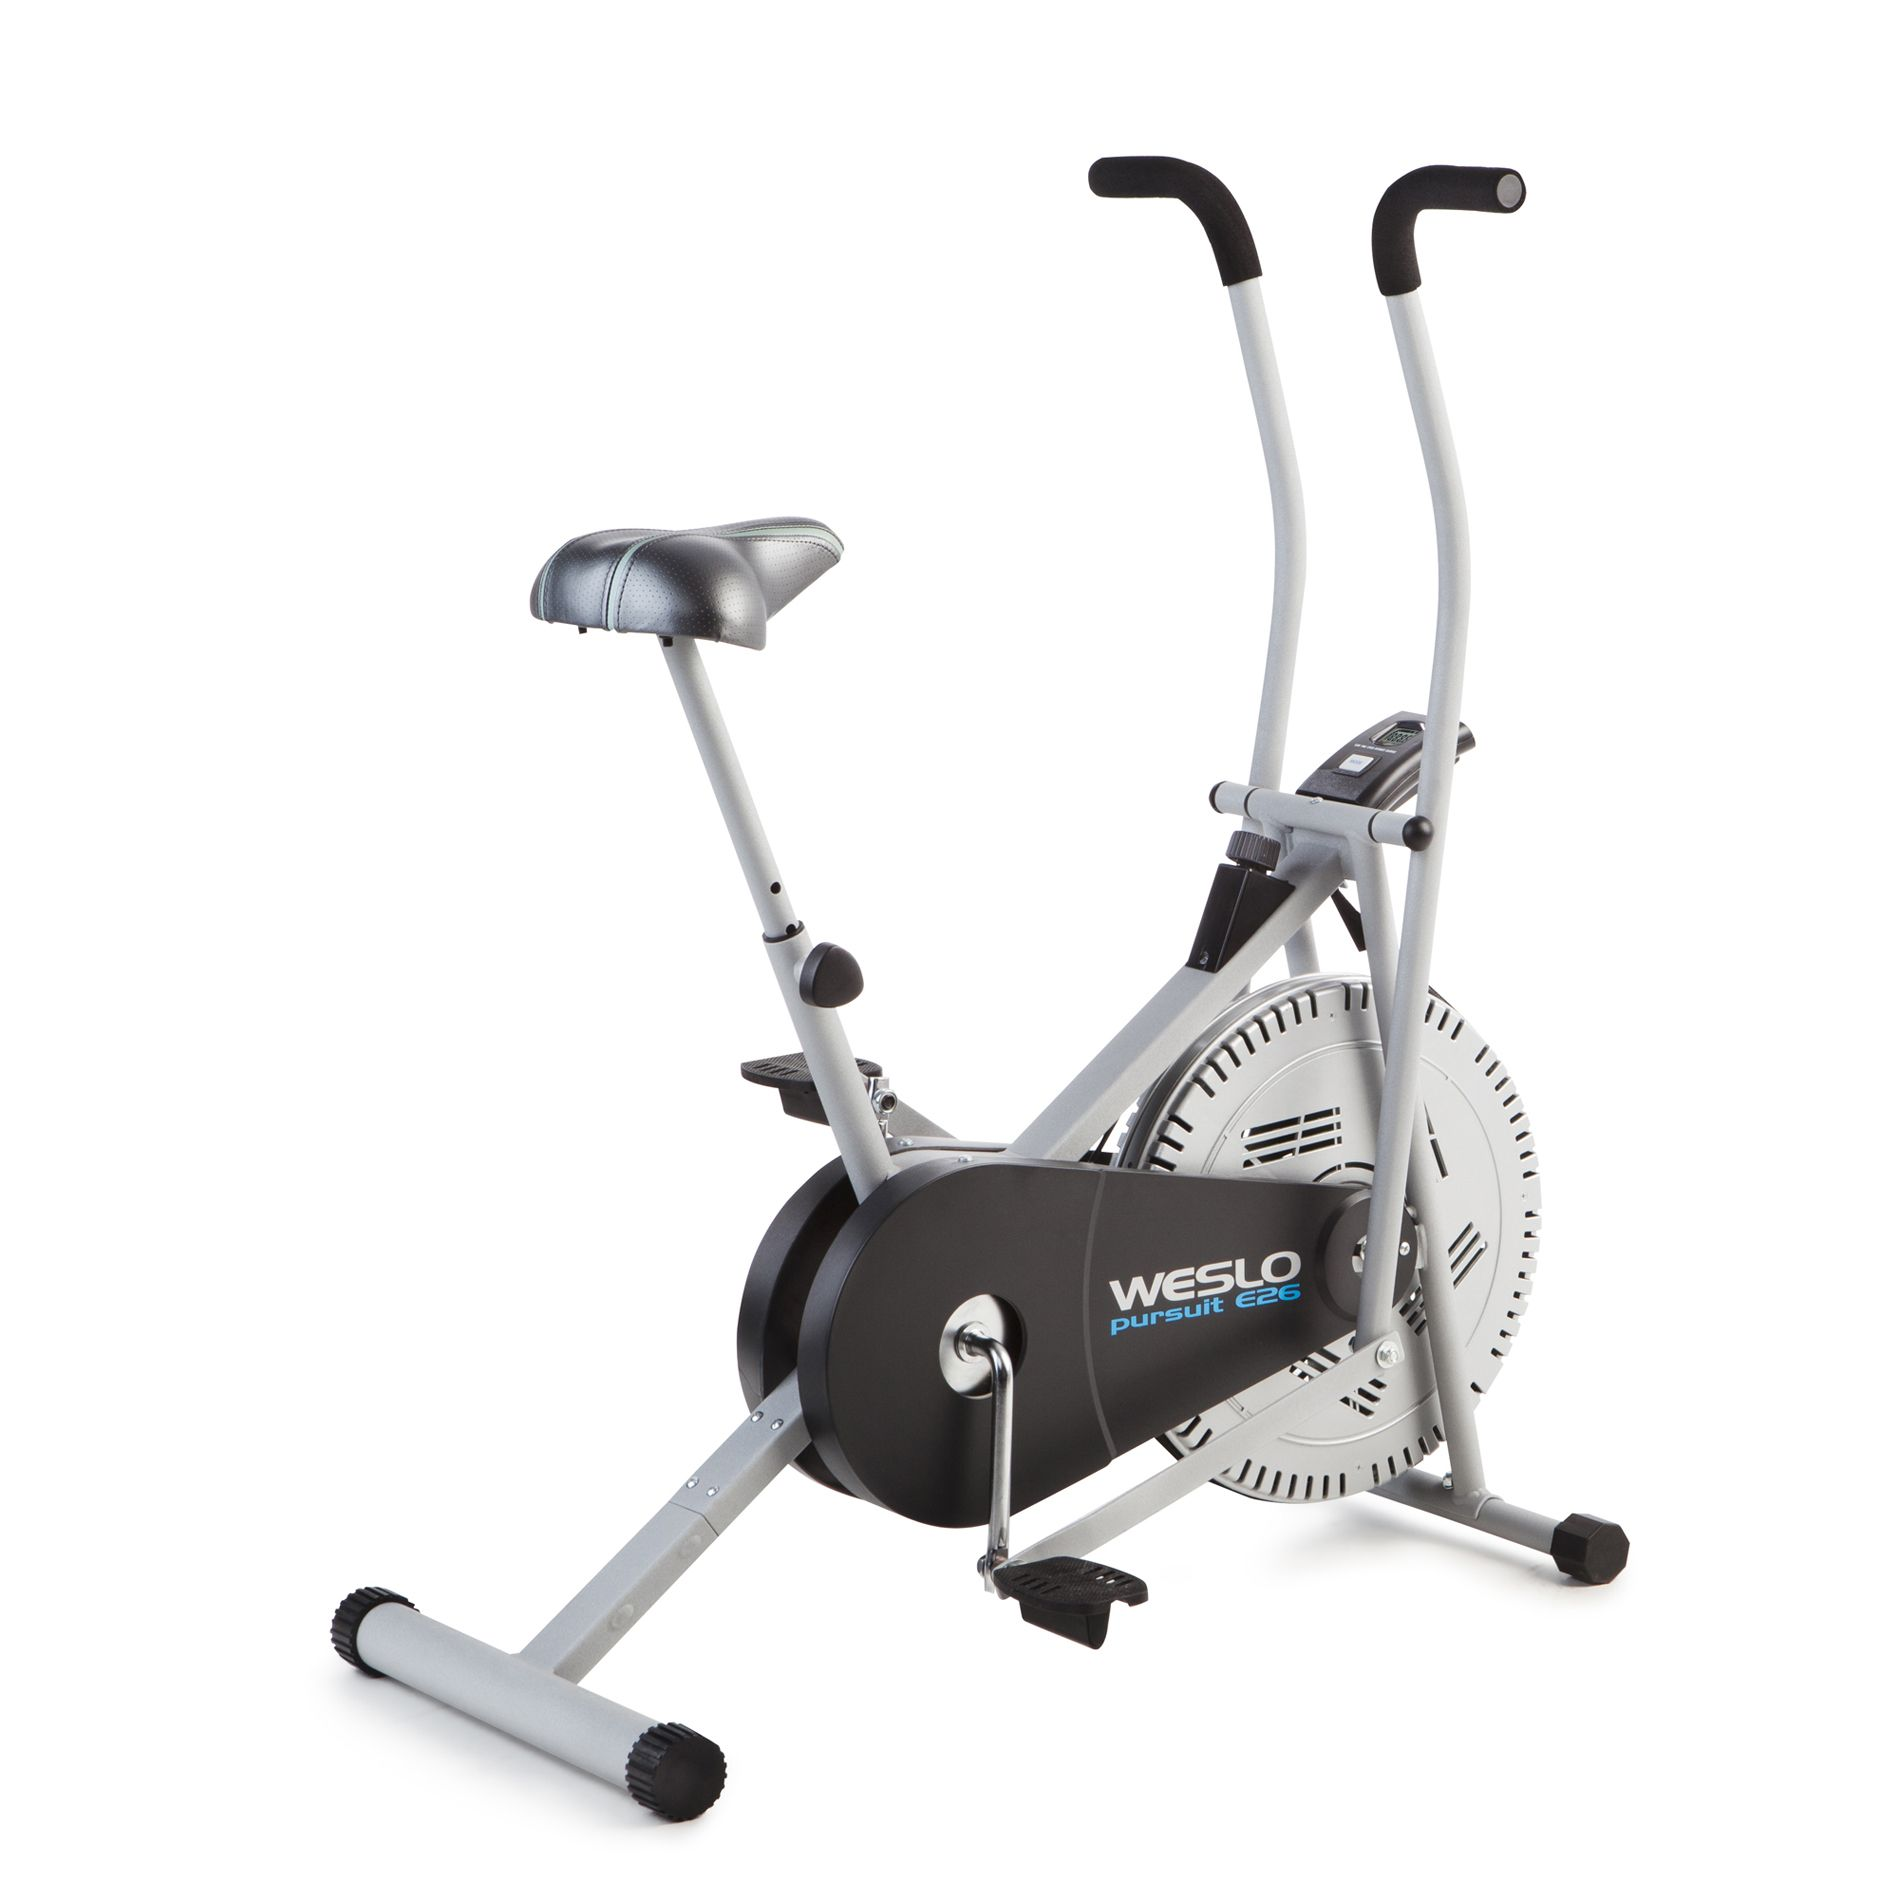gym_bike: (303, 127, 1642, 1818)
